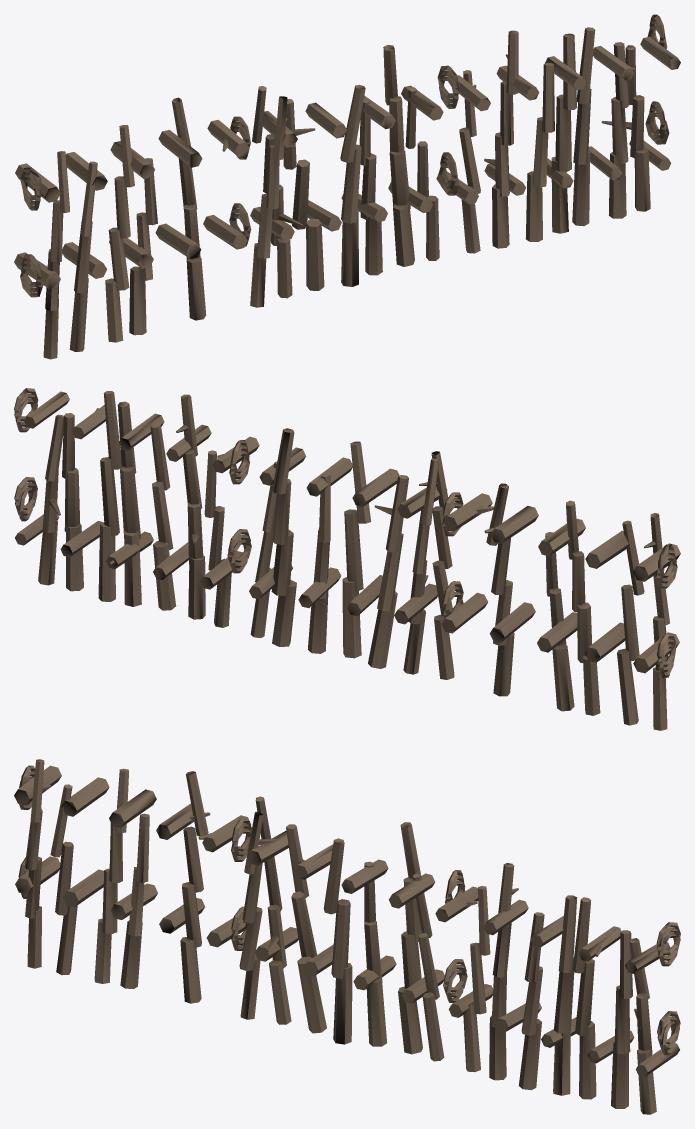
Rendered from picket.glb.
3 views of the same model, one above another, from view 1: azimuth 30°, elevation 25°; view 2: azimuth 150°, elevation 25°; view 3: azimuth 330°, elevation 25° (orthographic). The views are drawn at different scales.
Parts seen in each view (by area): view 1: picket; view 2: picket; view 3: picket.
Boxes of the visible parts, x1,y1,x2,y2 form: picket: (14, 14, 680, 359); picket: (14, 388, 680, 730); picket: (14, 759, 680, 1114).
Bounding box in the file's own units: 4.06 × 1.32 × 0.5187.
